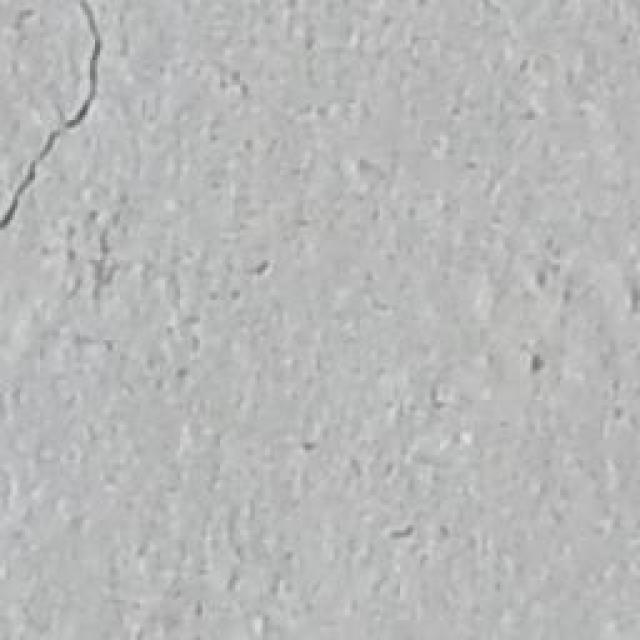concrete-crack: (1, 0, 107, 233)
